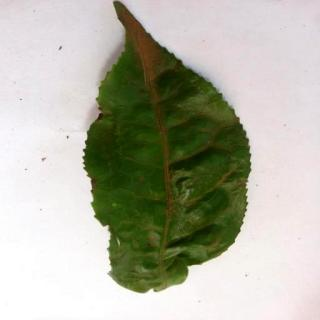Algal Leaf: (80, 4, 253, 296)
